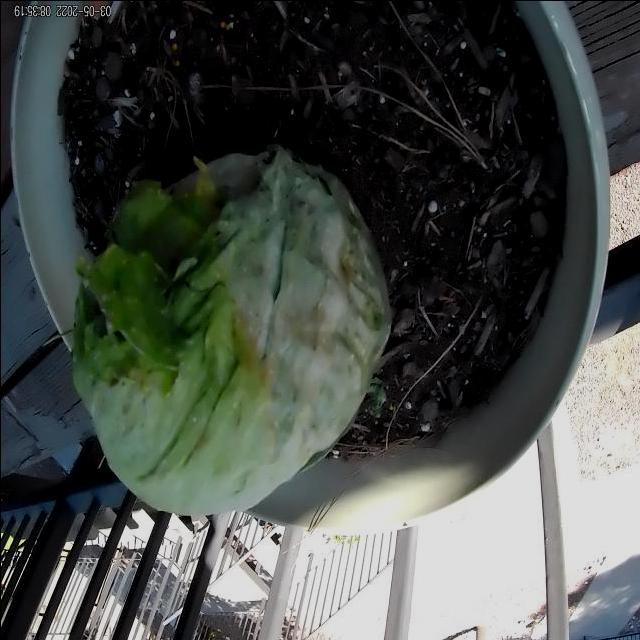cabbage: (68, 122, 399, 534)
